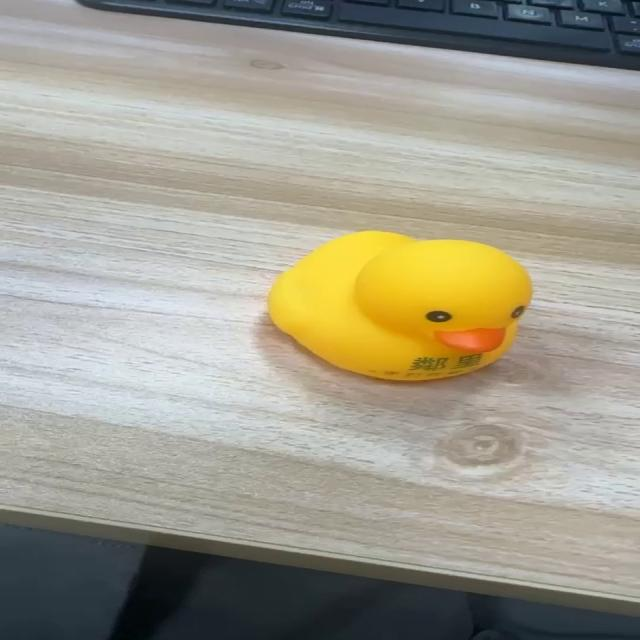yellow_duck: (264, 229, 534, 382)
